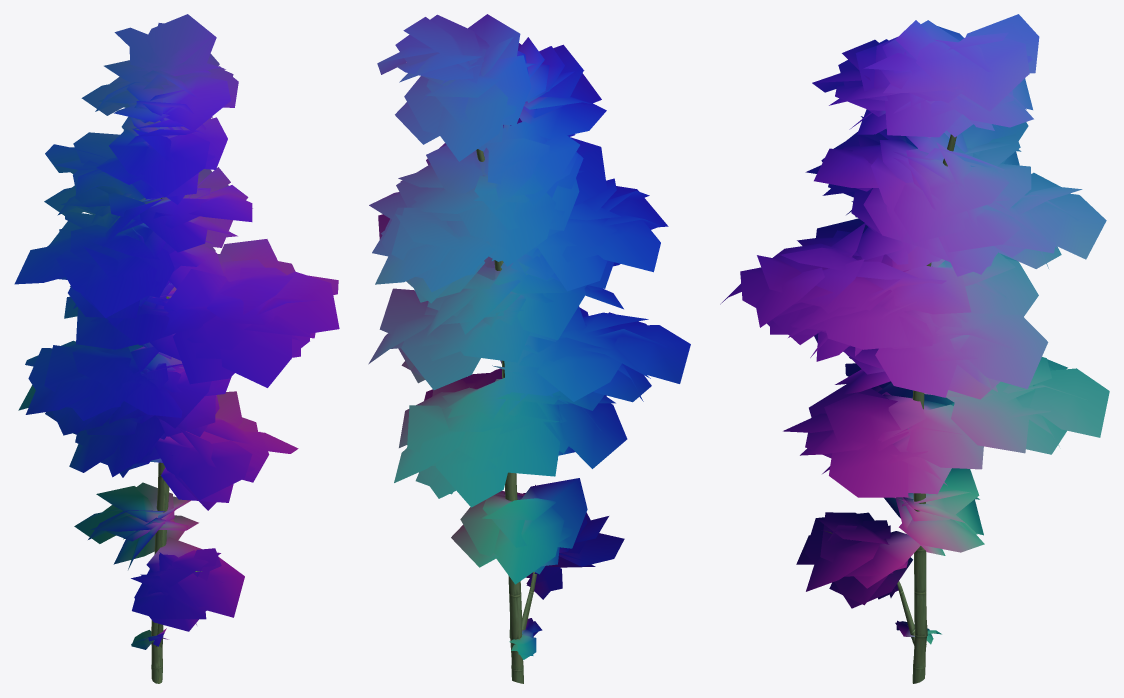
Rendered from SM_EastLands_Bamboo_Tall_01_Trunk.fbx.
3 renders of one model, left to right at view 1: azimuth 30°, elevation 25°; view 2: azimuth 150°, elevation 25°; view 3: azimuth 270°, elevation 25°, orthographic. The views are drawn at different scales.
Visible parts, largest first — view 1: SM_EastLands_Bamboo_Tall_01_Trunk_LOD0; view 2: SM_EastLands_Bamboo_Tall_01_Trunk_LOD0; view 3: SM_EastLands_Bamboo_Tall_01_Trunk_LOD0.
Boxes of the visible parts, bbox=[...] form: SM_EastLands_Bamboo_Tall_01_Trunk_LOD0: bbox=[14, 14, 339, 683]; SM_EastLands_Bamboo_Tall_01_Trunk_LOD0: bbox=[368, 14, 690, 683]; SM_EastLands_Bamboo_Tall_01_Trunk_LOD0: bbox=[720, 14, 1109, 683].
Bounding box in the file's own units: 858 × 1715 × 894.
